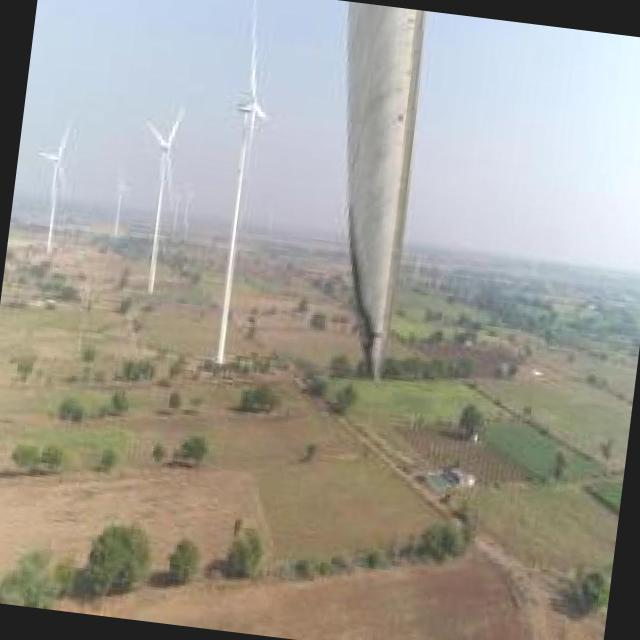Dirt: (345, 6, 414, 342)
Oil LEAKAGE: (345, 204, 383, 379)
Pin Hole: (395, 110, 407, 127), (405, 12, 418, 26)
